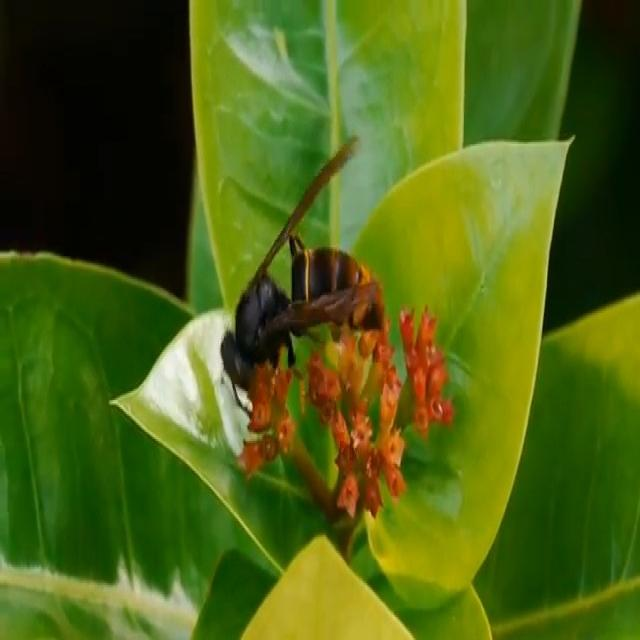Hornets: (221, 131, 385, 419)
